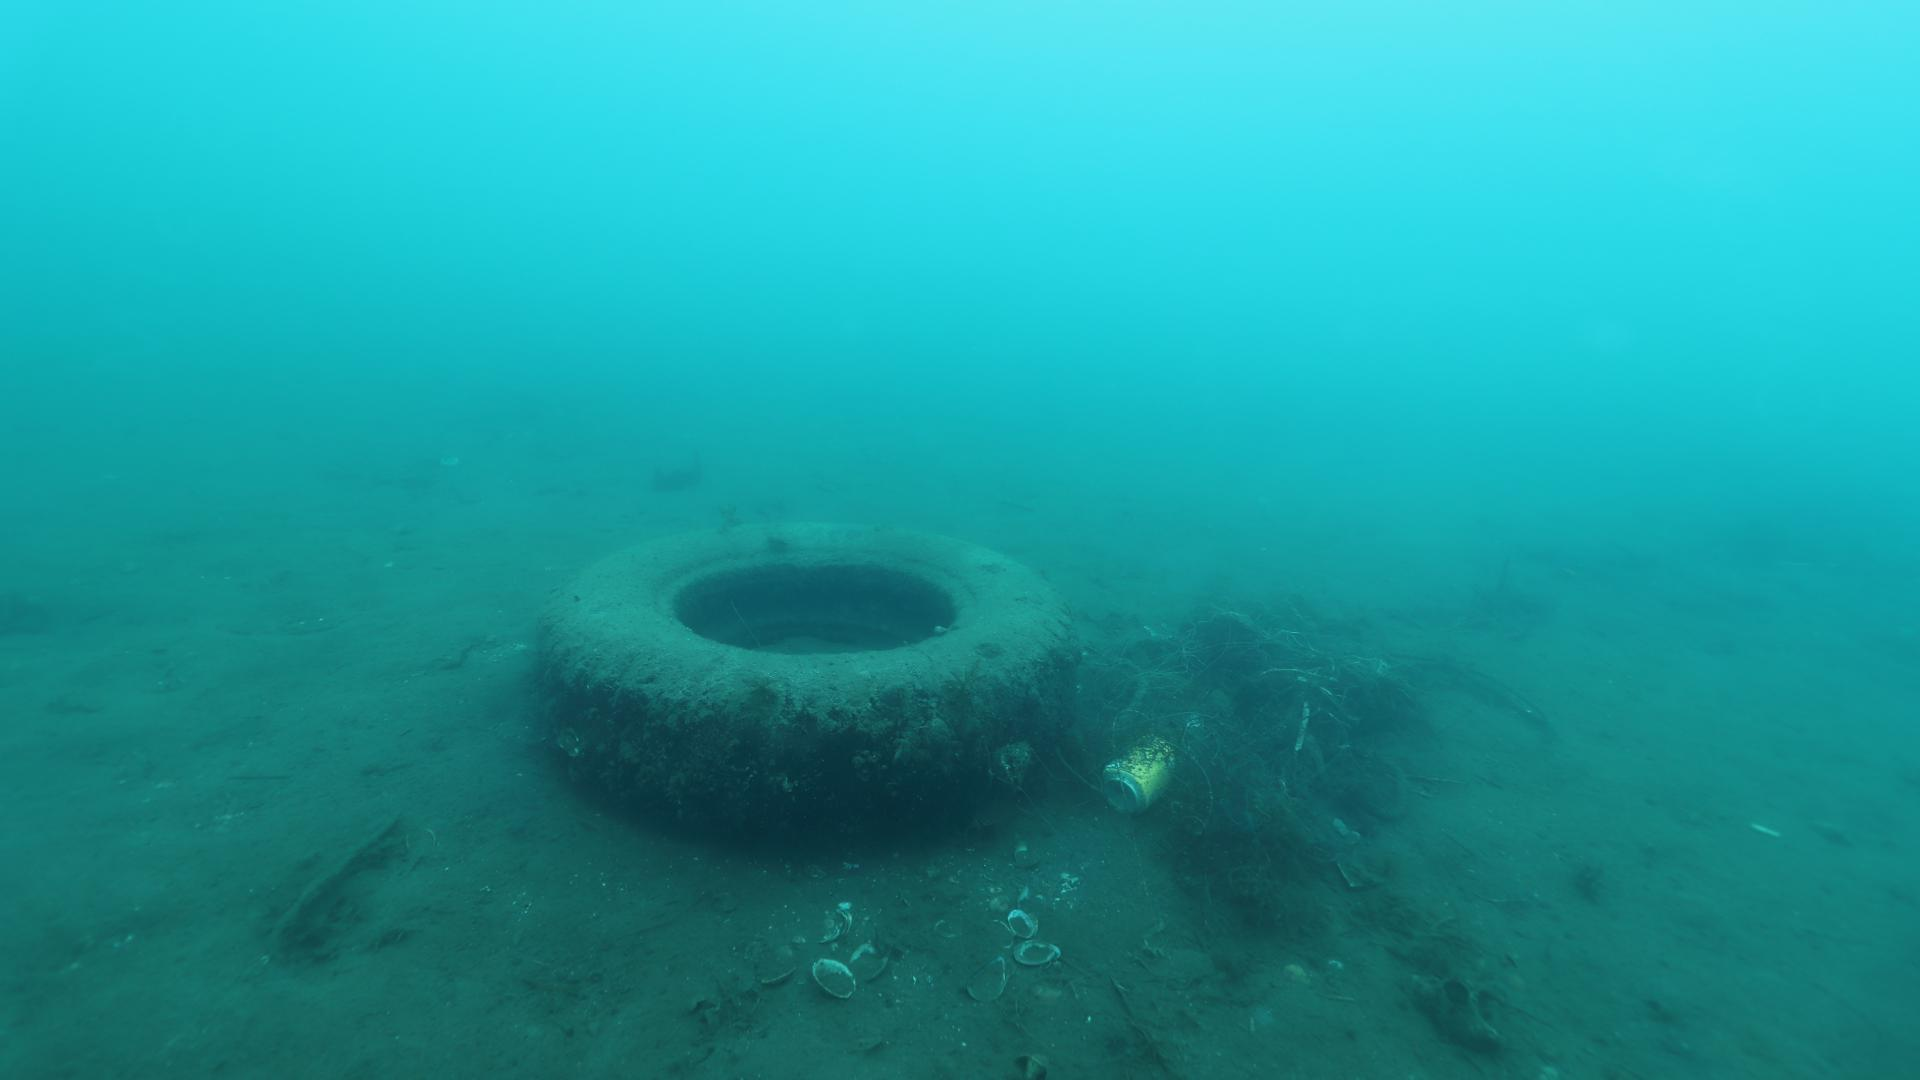tire: (534, 518, 1073, 732)
